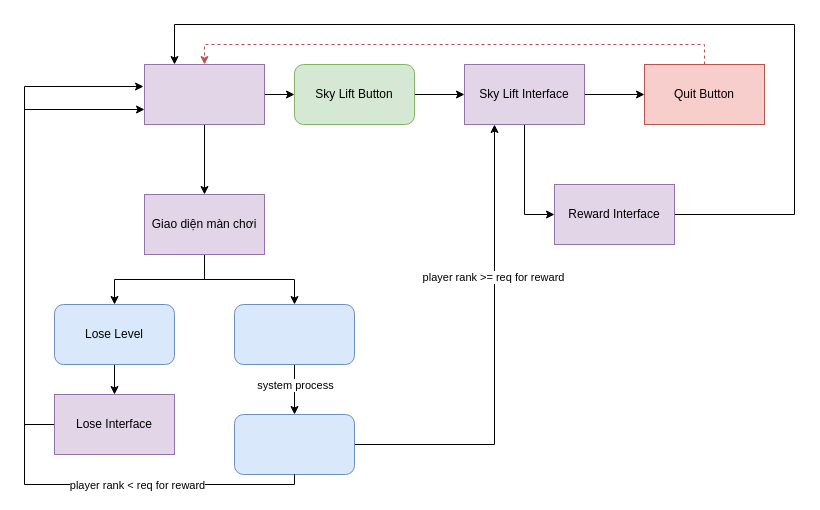
The diagram is 820 pixels wide and 510 high, and some of its shapes have lost their labels. Here are the shapes that lost their labels. From the top down, the centre of each, then its label:
At point 204,94: "Home Interface".
At point 294,334: "Win Level".
At point 294,444: "Sky Lift Rank up".
